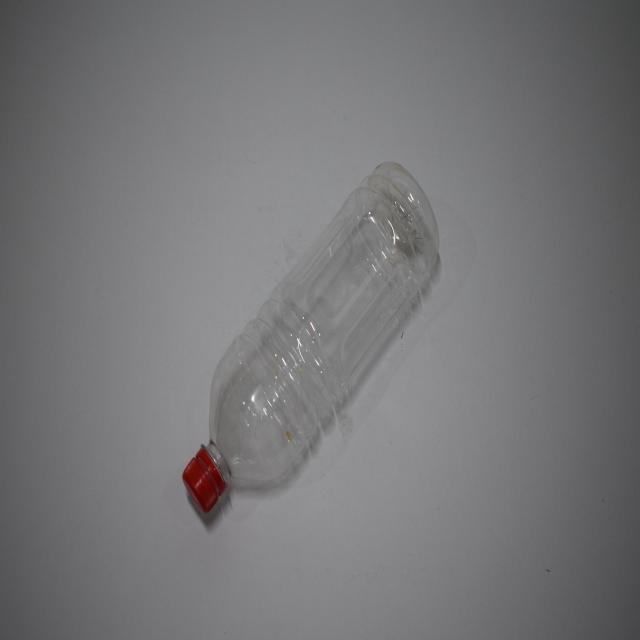empty: (183, 162, 439, 513)
